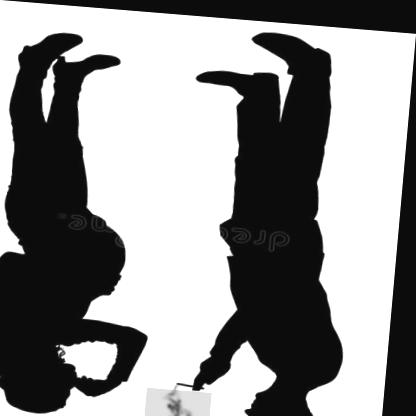smoke: (151, 385, 219, 416)
